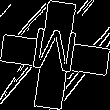M_S: (28, 27, 82, 83)
